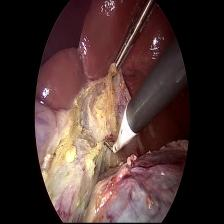Grasper: (111, 1, 153, 76)
Hook: (102, 104, 140, 160)
